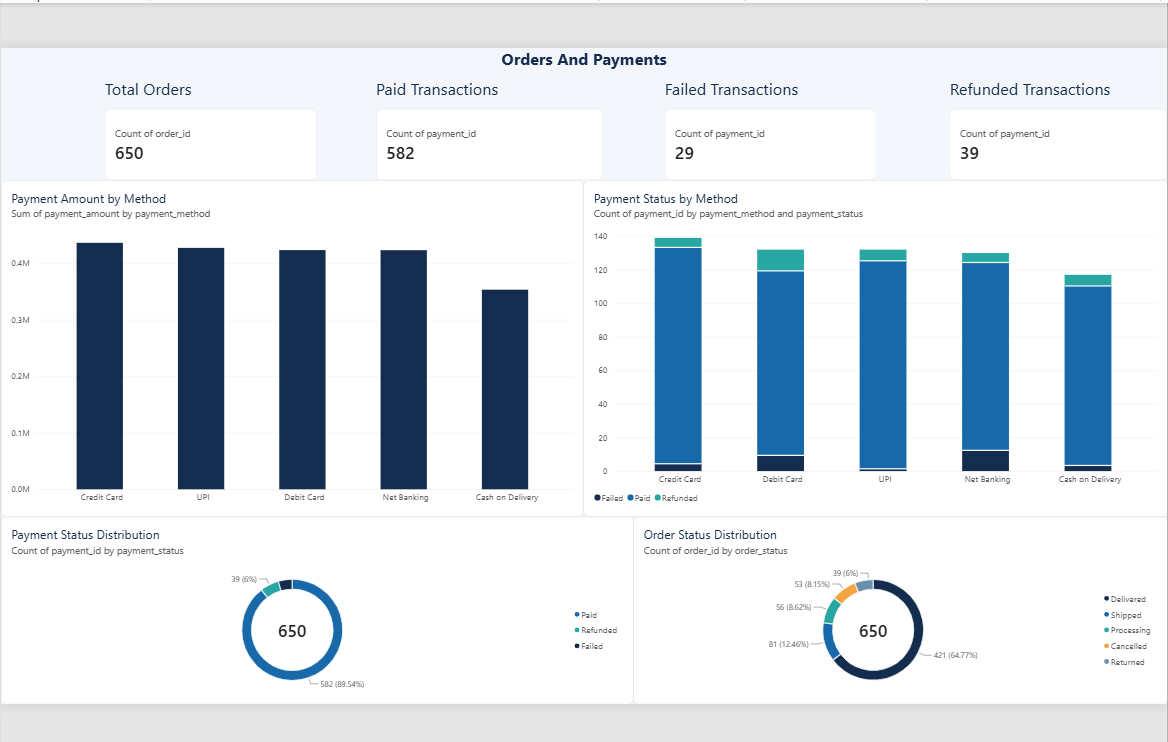

This screenshot's page, from the dashboard's own definition file:
{"tool":"powerbi","page":{"name":"Orders & Payments","canvas":[1920,1080],"ordinal":4},"visuals":[{"type":"donutChart","title":"Order Status Distribution","fields":{"Category":["Orders.order_status"],"Y":["Count(Orders.order_id)"]},"box":[1041.5,771.9,878.9,308.7],"z":0},{"type":"donutChart","title":"Payment Status Distribution","fields":{"Category":["Payments.payment_status"],"Y":["Count(Payments.payment_id)"]},"box":[0,771.9,1041.5,308.7],"z":1},{"type":"columnChart","title":"Payment Status by Method","fields":{"Category":["Payments.payment_method"],"Series":["Payments.payment_status"],"Y":["Count(Payments.payment_id)"]},"box":[959.2,218.2,961.2,553.7],"z":2},{"type":"clusteredColumnChart","title":"Payment Amount by Method","fields":{"Category":["Payments.payment_method"],"Y":["Sum(Payments.payment_amount)"]},"box":[0,218.2,959.2,553.7],"z":3},{"type":"cardVisual","title":"Total Orders","fields":{"Data":["CountNonNull(Orders.order_id)"]},"box":[170.8,49.4,349.9,168.8],"z":4},{"type":"cardVisual","title":"Paid Transactions","fields":{"Data":["Count(Payments.payment_id)"]},"box":[617.5,49.4,374.6,168.8],"z":5},{"type":"cardVisual","title":"Failed Transactions","fields":{"Data":["Count(Payments.payment_id)"]},"box":[1093,49.4,347.9,168.8],"z":6},{"type":"cardVisual","title":"Refunded Transactions","fields":{"Data":["Count(Payments.payment_id)"]},"box":[1562.3,49.4,358.1,168.8],"z":7},{"type":"textbox","box":[0,0,1920.4,49.4],"z":8}]}

Visuals, with their boxes on the page's 1920x1080 design canvas (x1, y1, x2, y2). These are canvas units, not pixel positions in the 1168x742 screenshot, which may show the page scaled, cropped or inside an application window:
"Order Status Distribution" donutChart: locate(1042, 772, 1920, 1081)
"Payment Status Distribution" donutChart: locate(0, 772, 1042, 1081)
"Payment Status by Method" columnChart: locate(959, 218, 1920, 772)
"Payment Amount by Method" clusteredColumnChart: locate(0, 218, 959, 772)
"Total Orders" cardVisual: locate(171, 49, 521, 218)
"Paid Transactions" cardVisual: locate(618, 49, 992, 218)
"Failed Transactions" cardVisual: locate(1093, 49, 1441, 218)
"Refunded Transactions" cardVisual: locate(1562, 49, 1920, 218)
textbox: locate(0, 0, 1920, 49)
